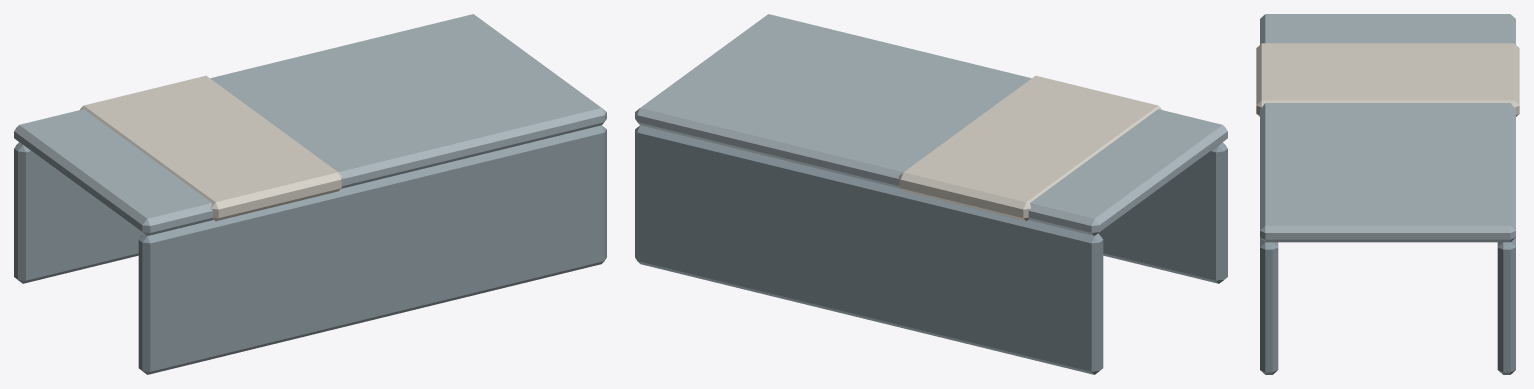
Rendered from mov_sofa_3l.glb.
3 views of the same model, side by side, from view 1: azimuth 30°, elevation 25°; view 2: azimuth 150°, elevation 25°; view 3: azimuth 270°, elevation 25° (orthographic). The views are drawn at different scales.
Parts seen in each view (by area): view 1: TEXTIL_CAPA_SOFA_v01; view 2: TEXTIL_CAPA_SOFA_v01; view 3: TEXTIL_CAPA_SOFA_v01.
Boxes of the visible parts, <box> form: TEXTIL_CAPA_SOFA_v01: <box>14,14,606,374</box>; TEXTIL_CAPA_SOFA_v01: <box>635,14,1227,374</box>; TEXTIL_CAPA_SOFA_v01: <box>1256,14,1519,374</box>.
Size of the model in its own units: 1.4 by 0.455 by 0.72.
